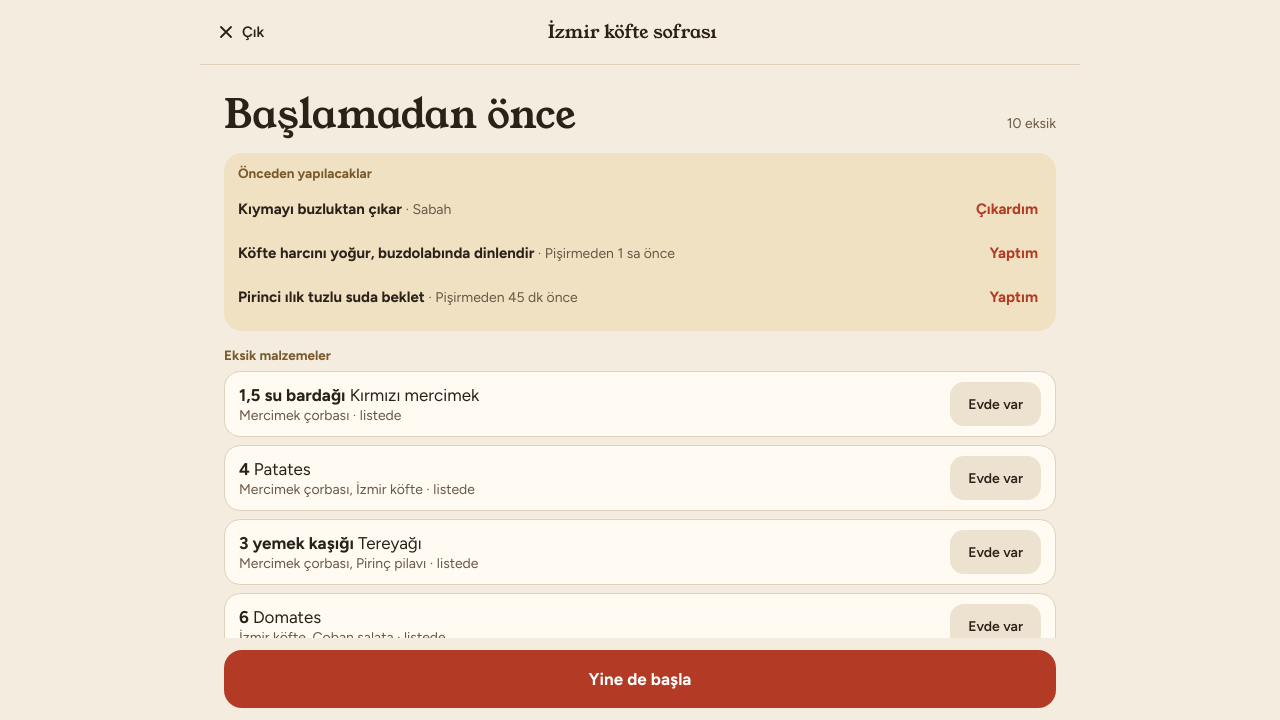
cooking mode › 'Malzemeler' in the step view opens the full merged list with amounts and dishes
Check: the heading "Başlamadan önce" is shown, box [224, 93, 576, 137]
Click the button "Yine de başla".
click(640, 679)  # box [224, 650, 1056, 708]
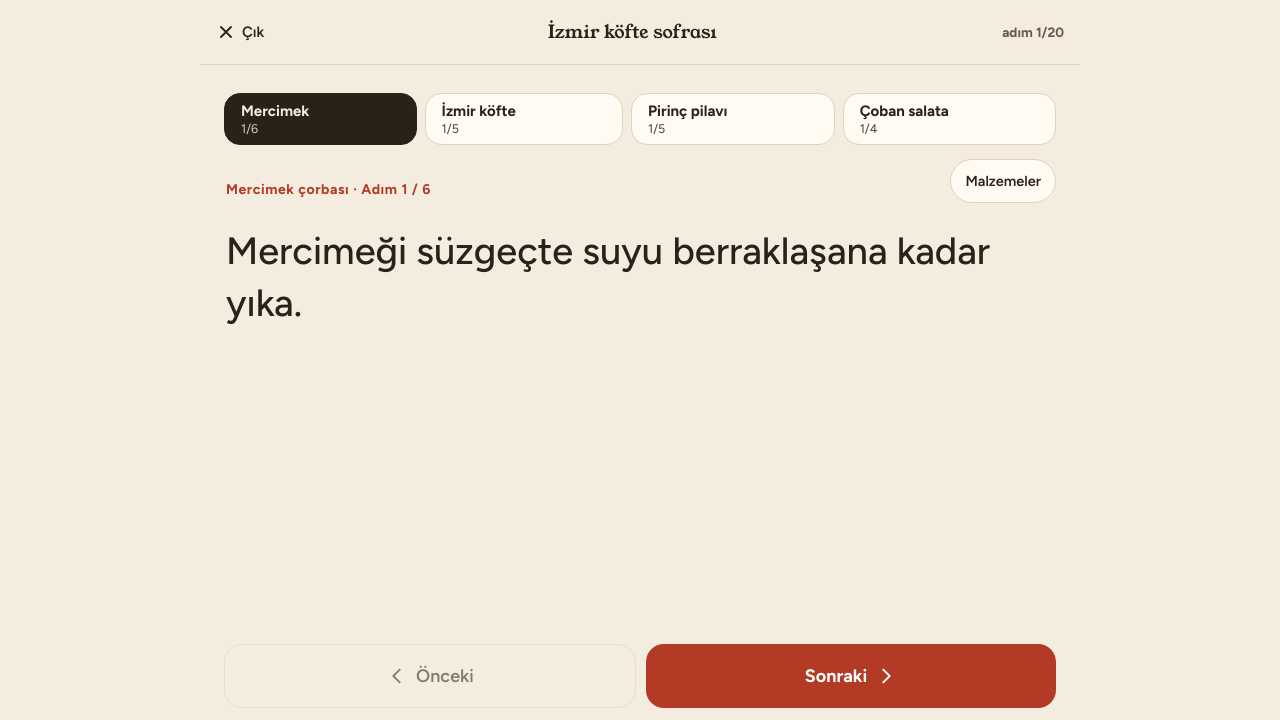
Click the button "Malzemeler".
click(1003, 181)  # box [950, 159, 1056, 203]
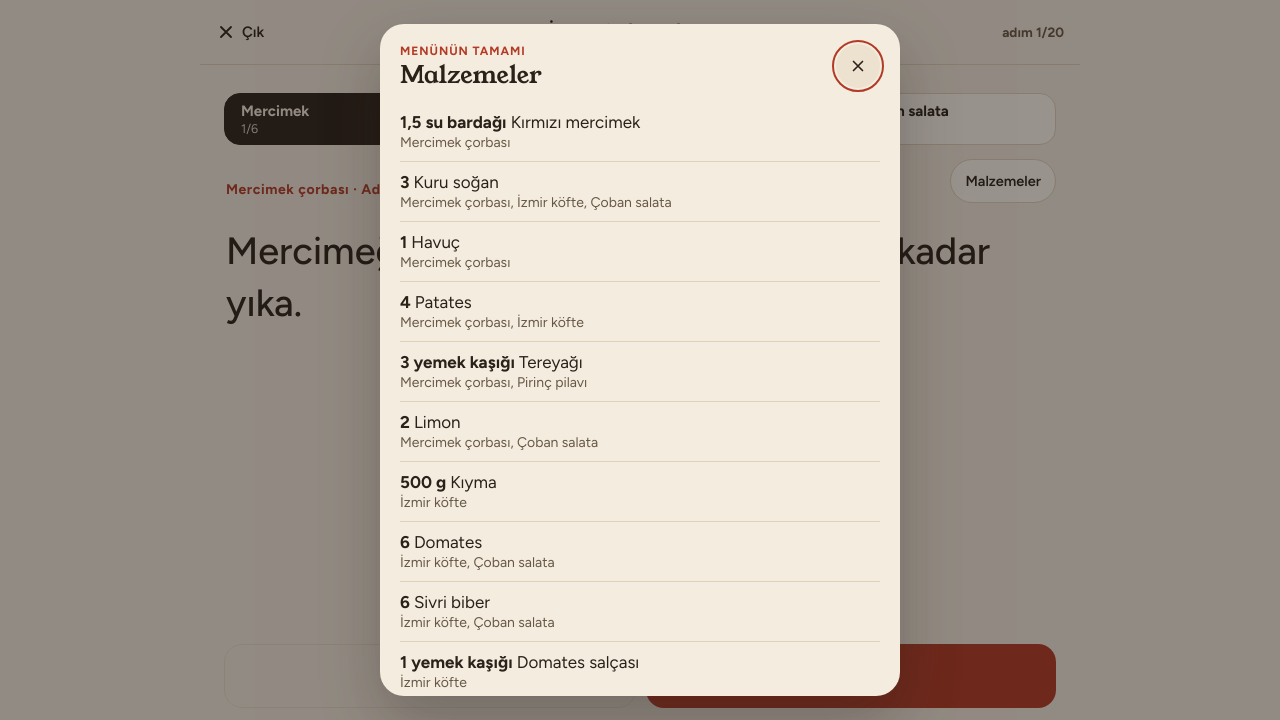
Check: the text "500 g Kıyma" is shown, box [400, 472, 497, 492]
Check: the text "Mercimek çorbası, İzmir köfte, Çoban salata" is shown, box [400, 194, 672, 211]
